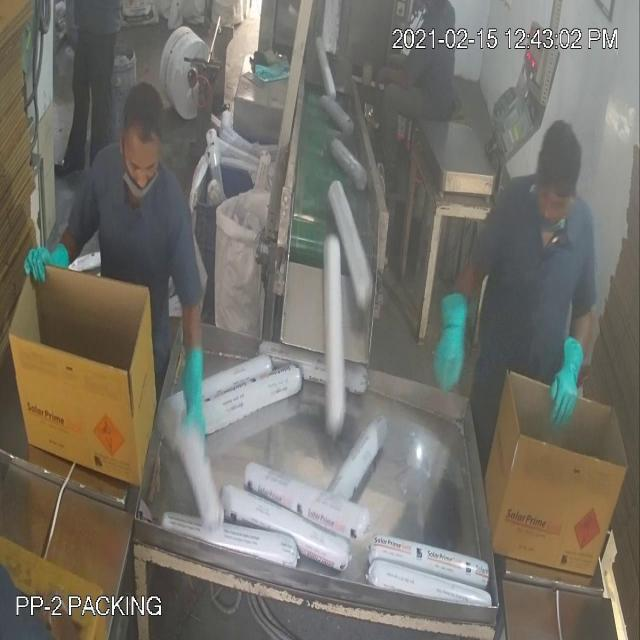Gloves: (40, 54, 560, 396)
